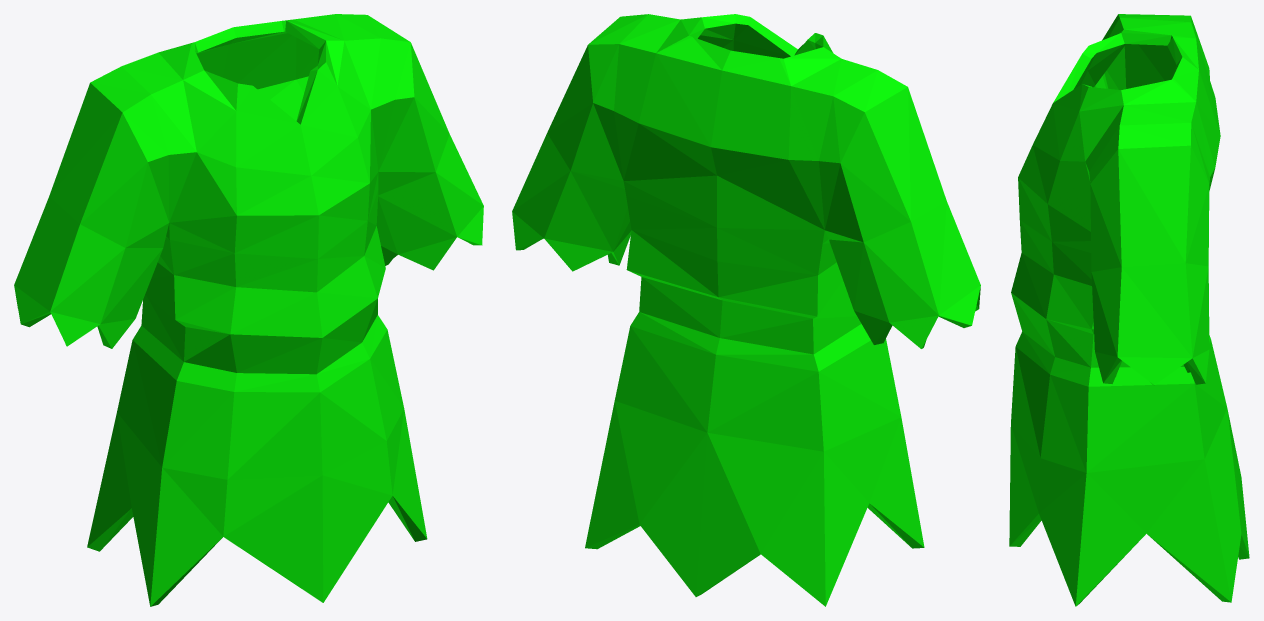
Rendered from SM_Armor_Chainmail_A_Hanging_Fantasy.fbx.
3 renders of one model, left to right at view 1: azimuth 30°, elevation 25°; view 2: azimuth 150°, elevation 25°; view 3: azimuth 270°, elevation 25°, orthographic. The views are drawn at different scales.
Visible parts, largest first — view 1: armor-chainmail-a-hanging-fantasy; view 2: armor-chainmail-a-hanging-fantasy; view 3: armor-chainmail-a-hanging-fantasy.
Boxes of the visible parts, left/top/right/bottom form: armor-chainmail-a-hanging-fantasy: left=14, top=14, right=483, bottom=606; armor-chainmail-a-hanging-fantasy: left=512, top=14, right=980, bottom=606; armor-chainmail-a-hanging-fantasy: left=1009, top=14, right=1249, bottom=606.
Size of the model in its own units: 0.7084 by 0.7802 by 0.3378.
